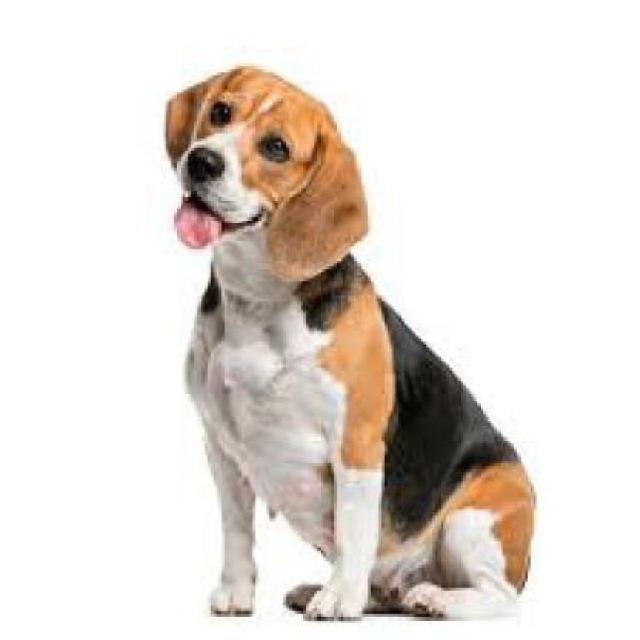Dog: (152, 64, 537, 618)
